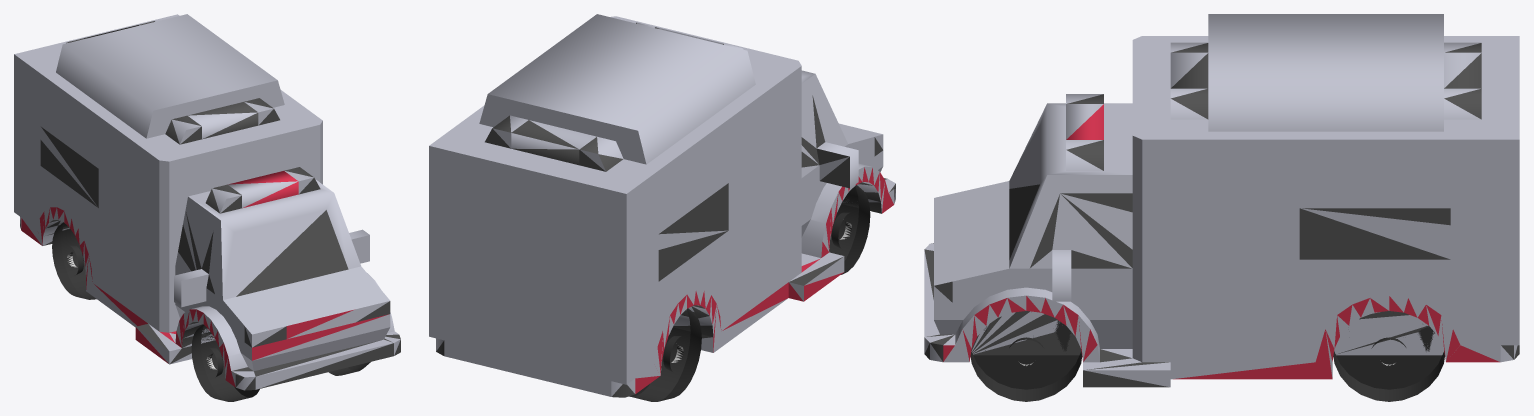
The model's file is transport.glb.
The picture shows the model from 3 angles, left to right: view 1: azimuth 30°, elevation 25°; view 2: azimuth 150°, elevation 25°; view 3: azimuth 270°, elevation 25°; orthographic projection. The views are drawn at different scales.
Bounding box in the file's own units: 15 × 18 × 31.5.
